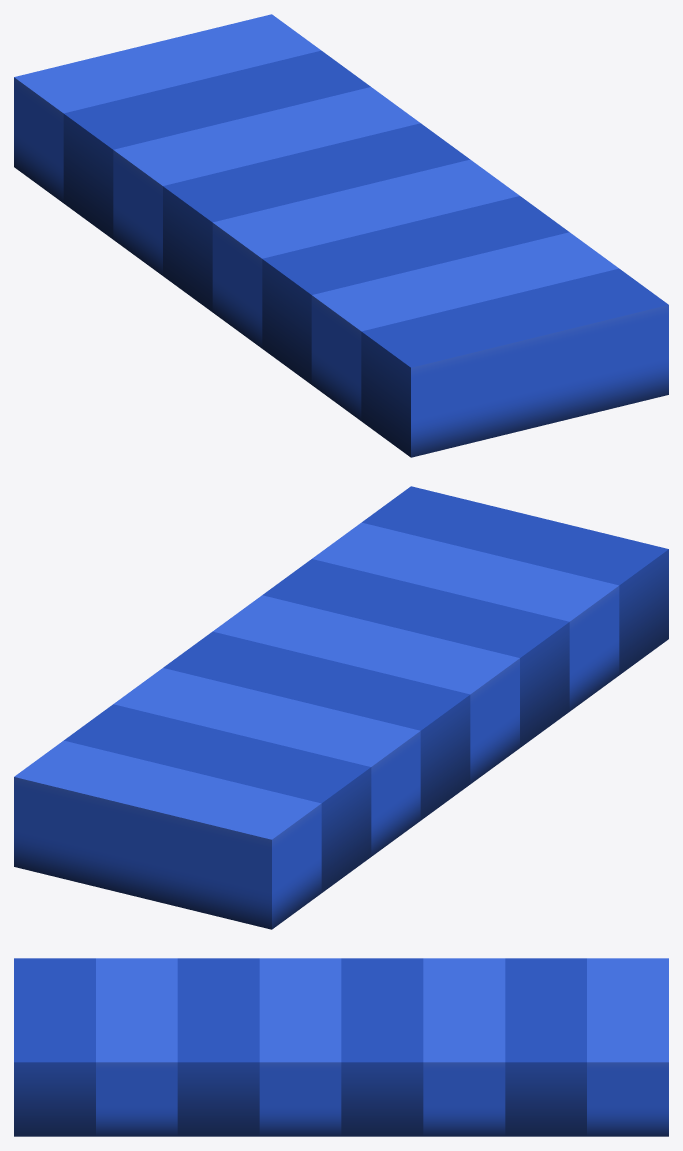
File: MainPieceV2.fbx
The picture shows the model from 3 angles, top to bottom: view 1: azimuth 30°, elevation 25°; view 2: azimuth 150°, elevation 25°; view 3: azimuth 270°, elevation 25°; orthographic projection. The views are drawn at different scales.
Visible parts, largest first — view 1: pCube12; view 2: pCube12; view 3: pCube12.
Boxes of the visible parts, bbox=[...] form: pCube12: bbox=[14, 14, 668, 457]; pCube12: bbox=[14, 486, 668, 929]; pCube12: bbox=[14, 958, 668, 1136].
Bounding box in the file's own units: 398 × 133 × 1062.
1 material, 1 textured.
